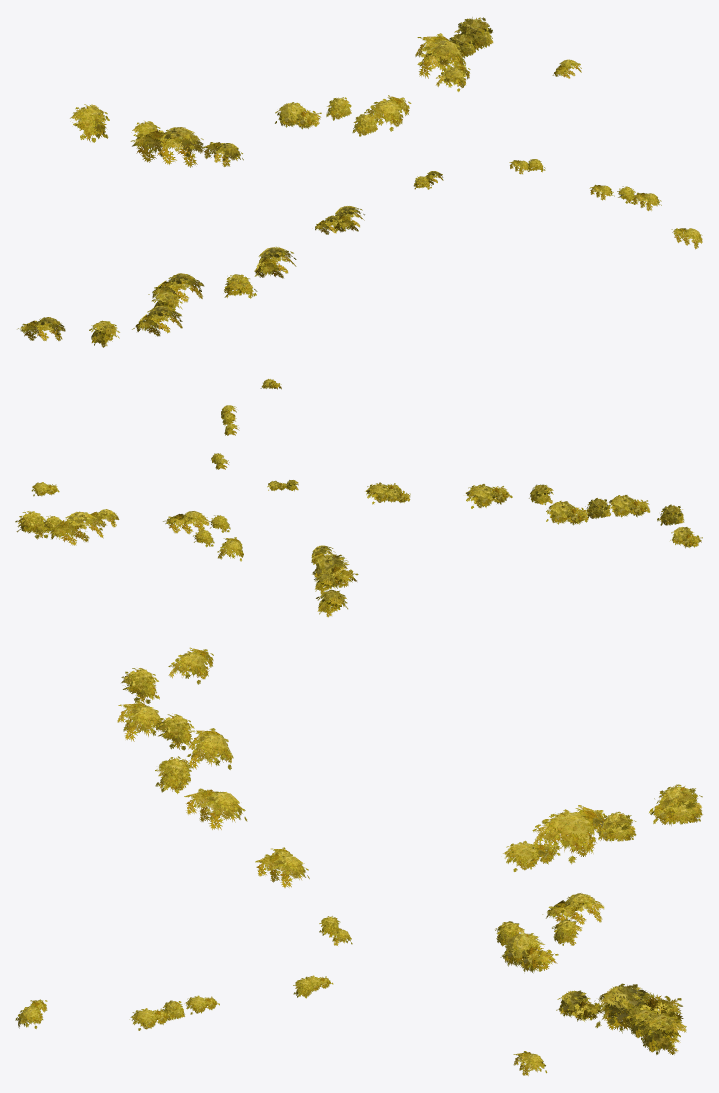
File: guanmu05.fbx
3 renders of one model, top to bottom at view 1: azimuth 30°, elevation 25°; view 2: azimuth 150°, elevation 25°; view 3: azimuth 270°, elevation 25°, orthographic. The views are drawn at different scales.
Parts seen in each view (by area): view 1: guanmu05; view 2: guanmu05; view 3: guanmu05.
Boxes of the visible parts, box(x1,y1,x2,y2) form: guanmu05: box(17, 17, 702, 347); guanmu05: box(15, 379, 702, 617); guanmu05: box(15, 647, 702, 1075).
Bounding box in the file's own units: 7214 × 349 × 5013.
1 material, 1 textured.
